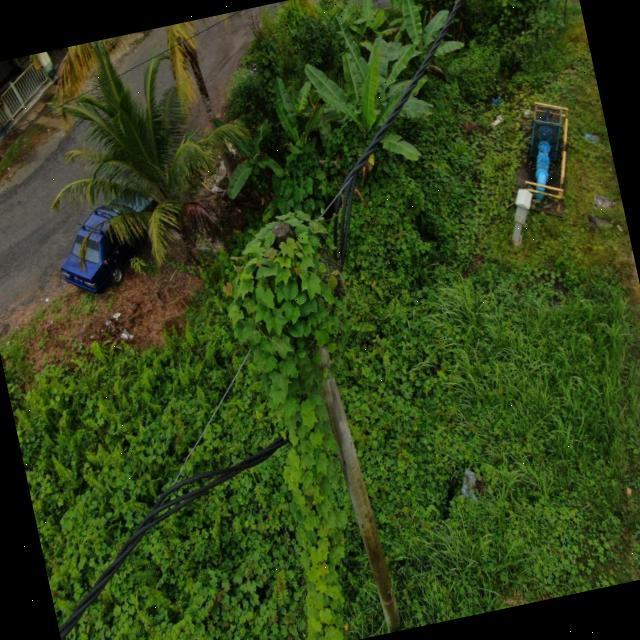critical vegetation: (204, 195, 423, 640)
